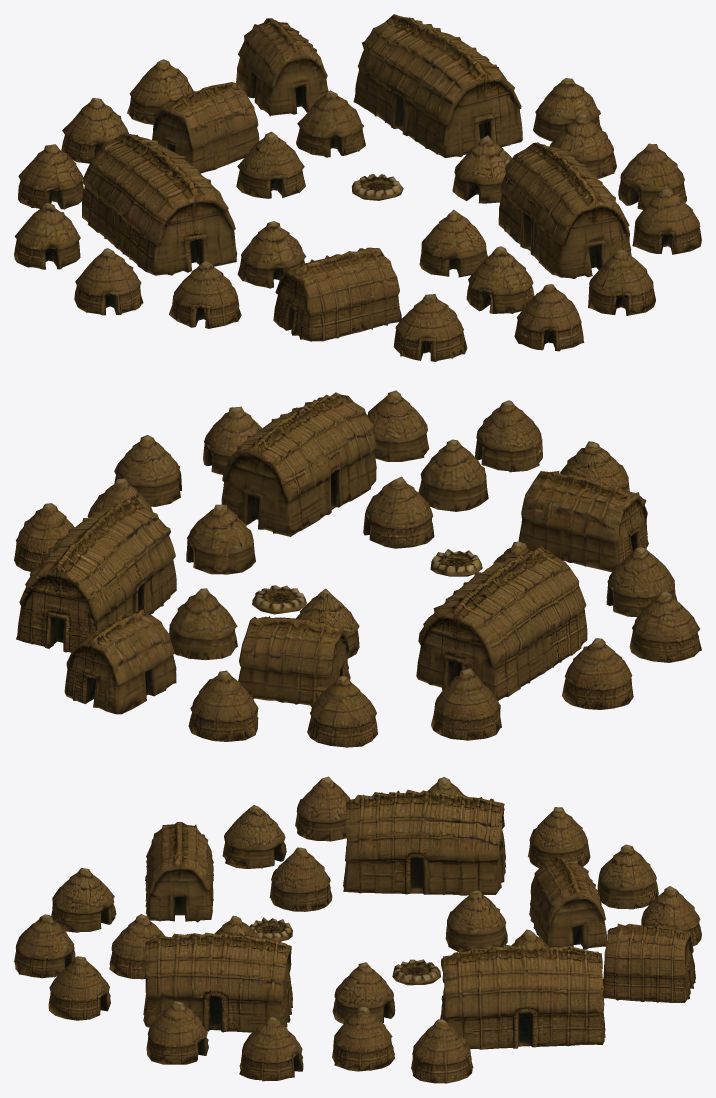
Rendered from Prehistoric Town (North American Native).fbx.
3 renders of one model, top to bottom at view 1: azimuth 30°, elevation 25°; view 2: azimuth 150°, elevation 25°; view 3: azimuth 270°, elevation 25°, orthographic. The views are drawn at different scales.
Visible parts, largest first — view 1: tripo_node_8217e775; view 2: tripo_node_8217e775; view 3: tripo_node_8217e775.
Part boxes in pixels (x1,y1,x2,y2): tripo_node_8217e775: (14,14,701,361); tripo_node_8217e775: (14,390,701,747); tripo_node_8217e775: (14,776,701,1083).
Bounding box in the file's own units: 0.9276 × 0.1371 × 1.
